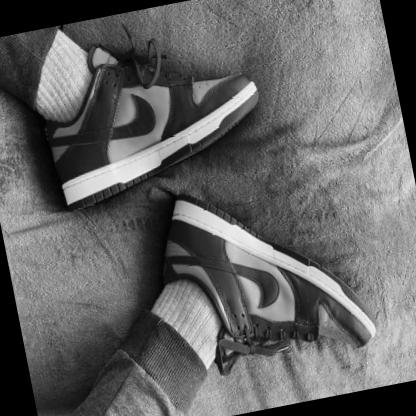ankle: (203, 296, 208, 303), (86, 100, 91, 107)
heel: (172, 223, 179, 232), (61, 175, 67, 181)
left_foot: (36, 36, 274, 214)
pinky: (342, 338, 346, 343), (223, 80, 226, 84)
right_foot: (150, 163, 385, 383)
toe: (356, 318, 361, 325), (229, 93, 234, 100)
